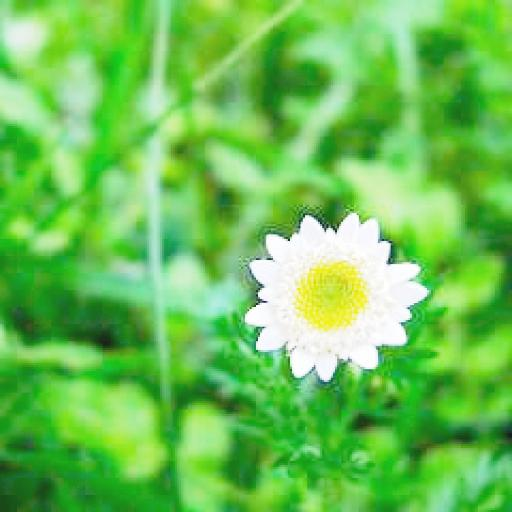daisy: (254, 224, 414, 369)
